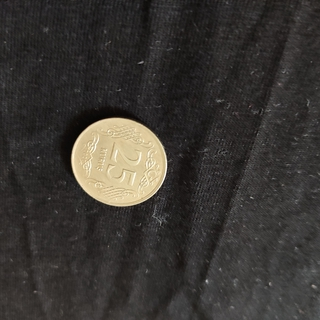25KURUS: (69, 115, 169, 208)
